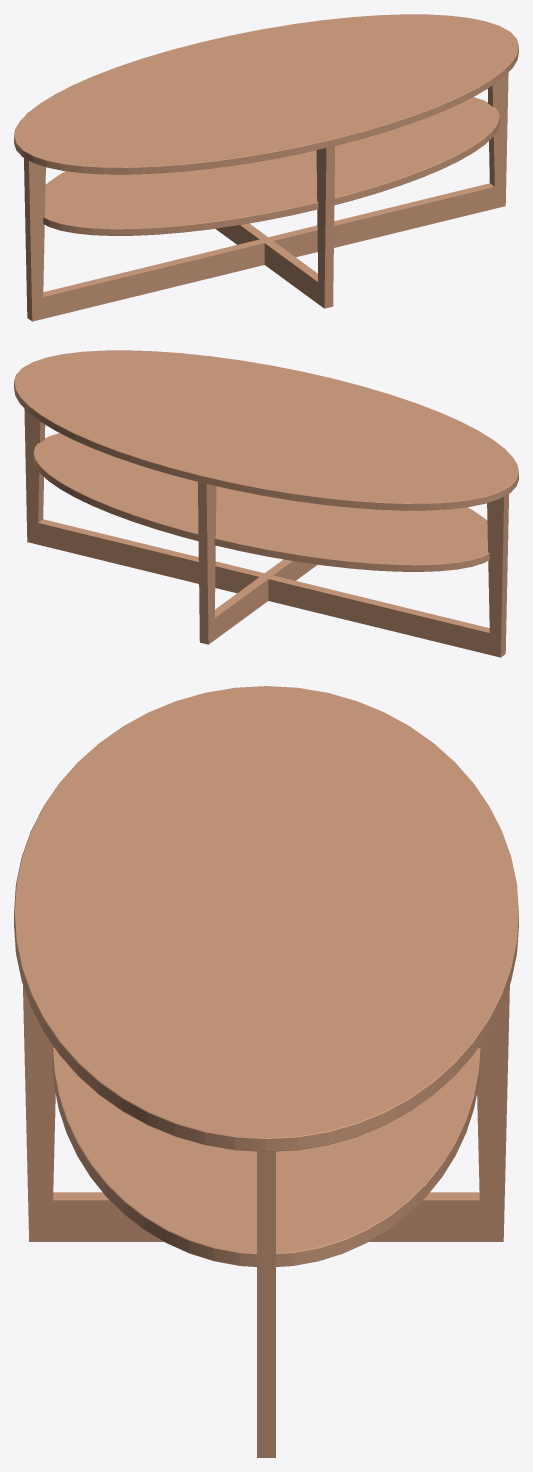
File: IKEA-VEJMON_coffee_table_wooden-3D.obj
3 renders of one model, top to bottom at view 1: azimuth 30°, elevation 25°; view 2: azimuth 150°, elevation 25°; view 3: azimuth 270°, elevation 25°, orthographic. The views are drawn at different scales.
Visible parts, largest first — view 1: Ellipse001, Ellipse002, Box007, Box001, Box003, Box006, Box004, Box005; view 2: Ellipse001, Ellipse002, Box007, Box003, Box002, Box006, Box005; view 3: Ellipse001, Ellipse002, Box006, Box001, Box002, Box005.
Part boxes in pixels (box(x1,y1,x2,y2)): Ellipse001: box(14, 14, 518, 174); Ellipse002: box(43, 97, 499, 235); Box007: box(42, 183, 495, 318); Box001: box(316, 146, 334, 308); Box003: box(24, 158, 45, 321); Box006: box(215, 223, 320, 305); Box004: box(29, 161, 45, 321); Box005: box(487, 72, 508, 208); Ellipse001: box(14, 350, 518, 510); Ellipse002: box(33, 433, 489, 571); Box007: box(34, 519, 493, 655); Box003: box(487, 494, 508, 657); Box002: box(198, 482, 216, 644); Box006: box(214, 559, 317, 639); Box005: box(24, 408, 45, 543); Ellipse001: box(14, 686, 518, 1151); Ellipse002: box(52, 1048, 480, 1266); Box006: box(44, 1192, 488, 1241); Box001: box(23, 985, 55, 1241); Box002: box(477, 985, 509, 1241); Box005: box(257, 1151, 275, 1457).
Bounding box in the file's own units: 1400 × 470 × 660.
